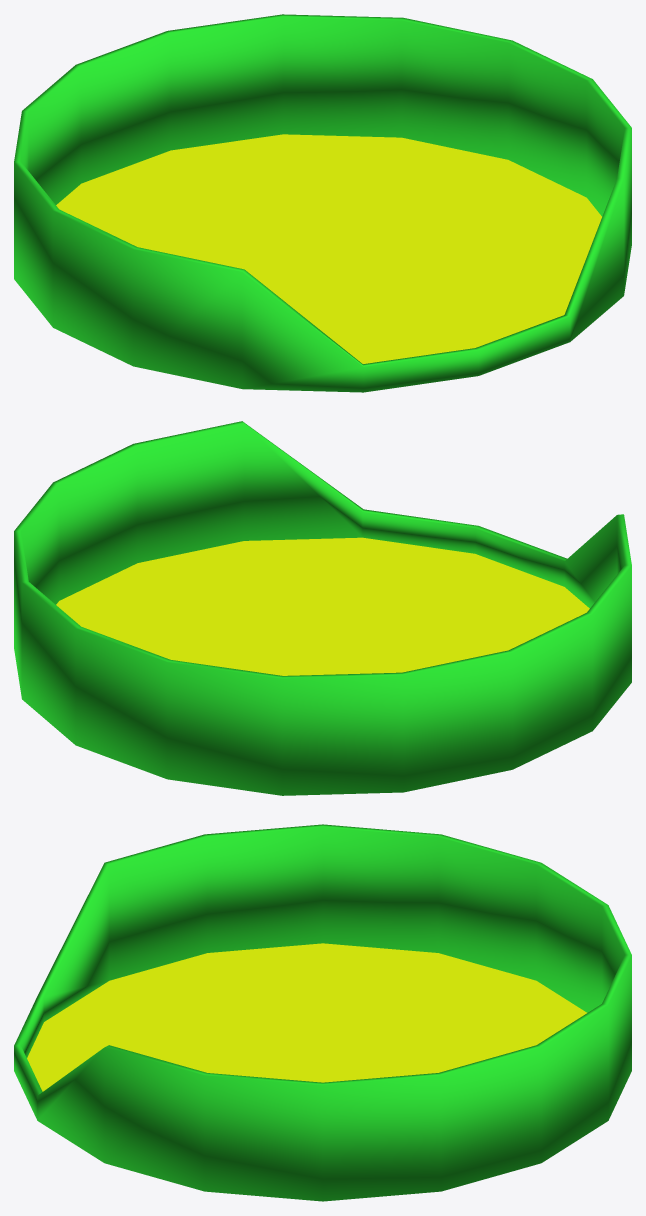
File: MisirYuvasiz.fbx
The picture shows the model from 3 angles, top to bottom: view 1: azimuth 30°, elevation 25°; view 2: azimuth 150°, elevation 25°; view 3: azimuth 270°, elevation 25°; orthographic projection.
Visible parts, largest first — view 1: Normal.001; view 2: Normal.001; view 3: Normal.001.
Boxes of the visible parts, <box> form: Normal.001: <box>14,14,631,392</box>; Normal.001: <box>14,421,631,795</box>; Normal.001: <box>14,824,631,1201</box>.
Size of the model in its own units: 78.76 by 16.3 by 78.76.
